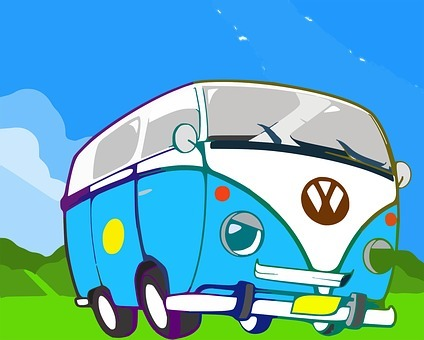bus: (58, 82, 412, 333)
